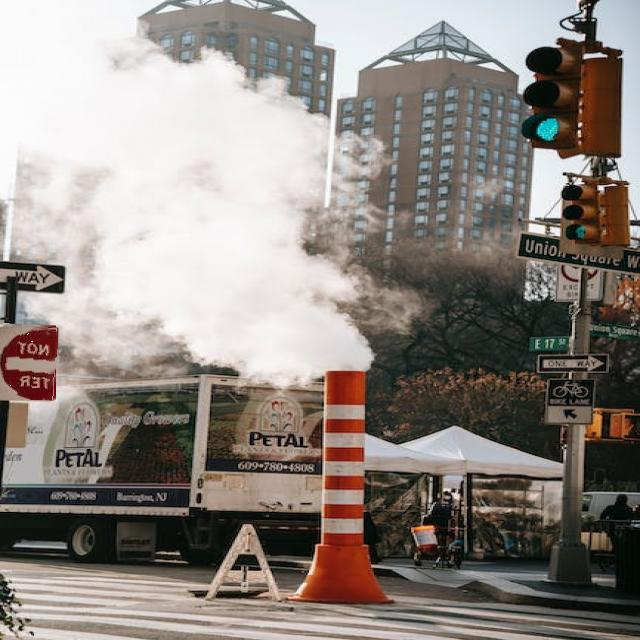no entry: (0, 324, 57, 400)
